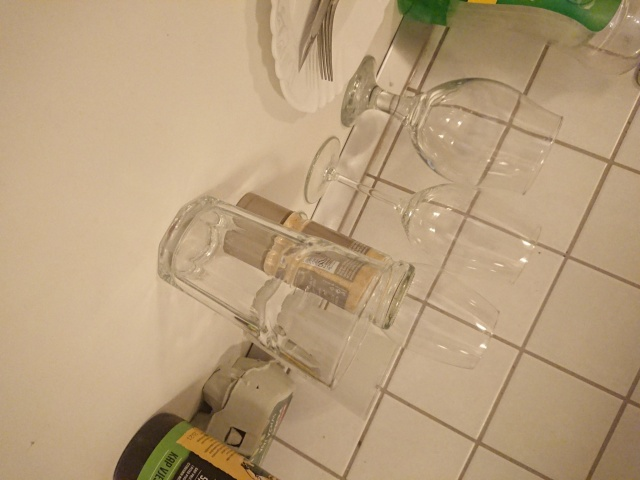Kotanyi Garlic Granules 70g: (220, 191, 418, 332)
